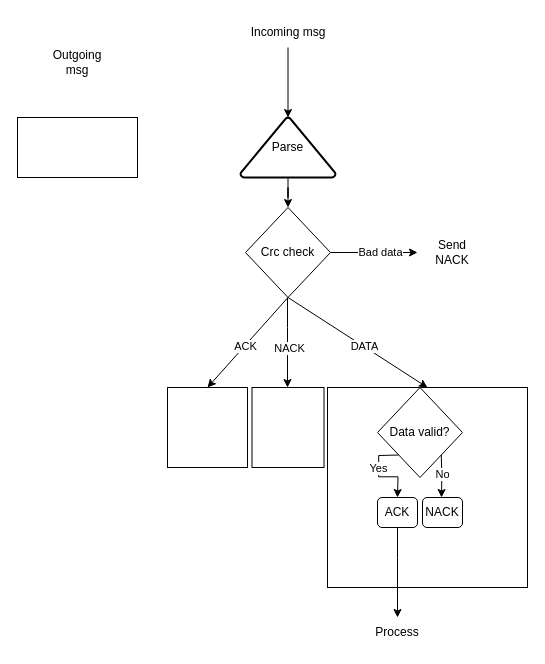
The diagram is 545 pixels wide and 664 high, and some of its shapes have lost their labels. The shapes that lost their labels are listed below. From the top down, each one's centre as x and y in pixels, then its label:
point 207,427: Unload msg number from Queue
point 287,427: Keep msg number in Queue Retry
